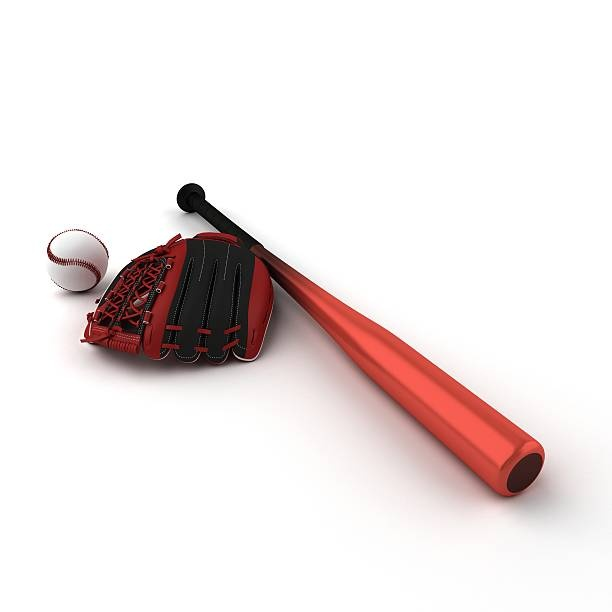bita: (178, 183, 545, 494)
